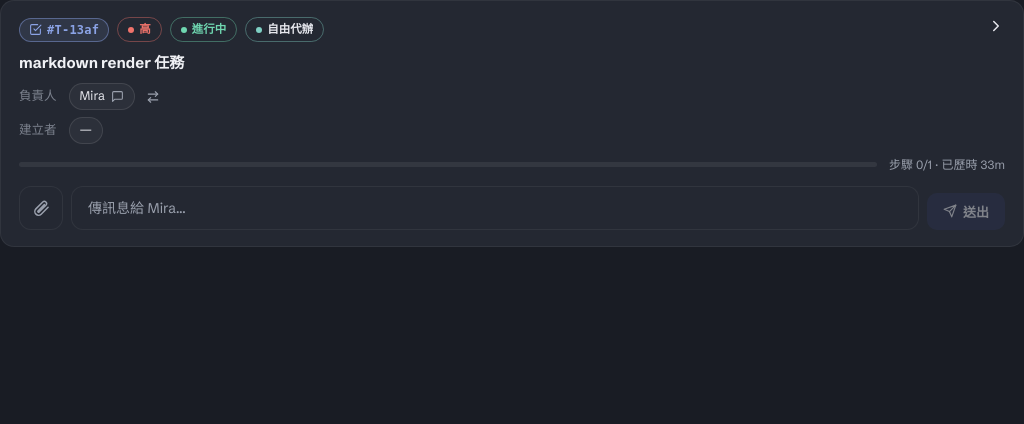
TaskCard markdown render (T-13af) › renders a step's DoD markdown (list) under the DoD label
This screenshot has width=1024, height=424.
Click the button with test id "task-card" at point(512, 232), box [0, 0, 1023, 247]
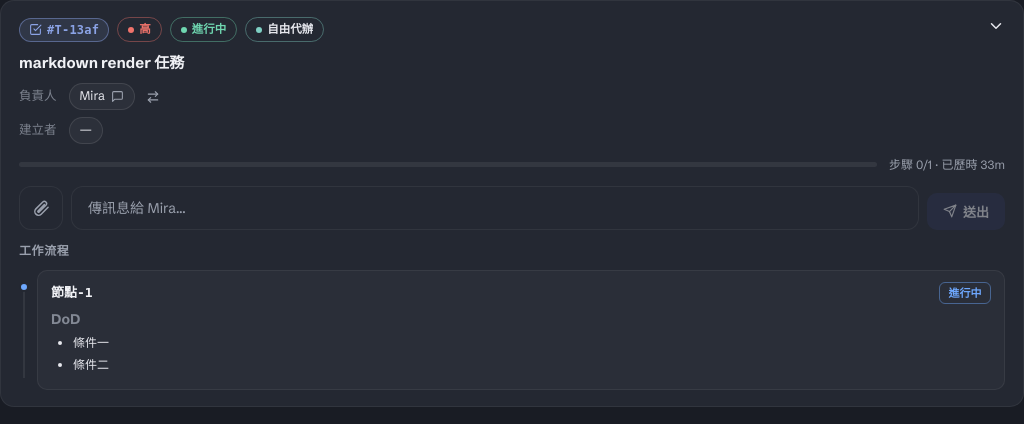
Now the number of list items is 2, box [73, 335, 109, 350]; [73, 357, 109, 372]
